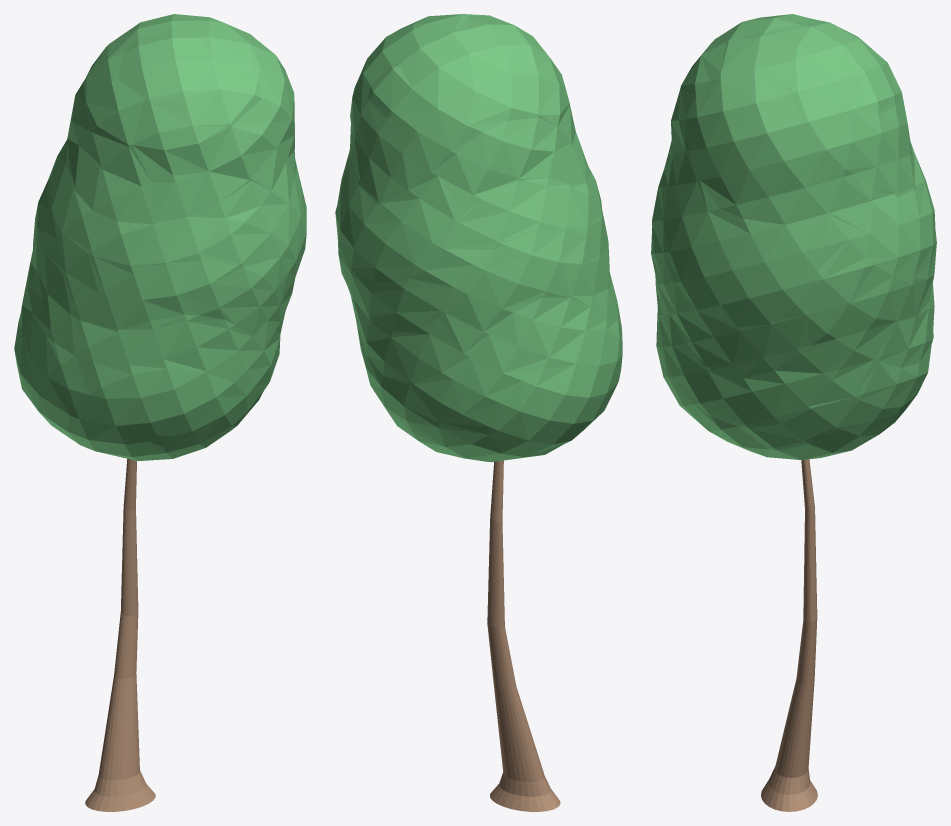
File: Cartoon_Trees_Pack_Tree_9.glb
3 renders of one model, left to right at view 1: azimuth 30°, elevation 25°; view 2: azimuth 150°, elevation 25°; view 3: azimuth 270°, elevation 25°, orthographic. The views are drawn at different scales.
Visible parts, largest first — view 1: Canopy, Trunk; view 2: Canopy, Trunk; view 3: Canopy, Trunk.
Boxes of the visible parts, x1=… form: Canopy: x1=14, y1=14, x2=306, y2=460; Trunk: x1=85, y1=459, x2=155, y2=811; Canopy: x1=335, y1=14, x2=622, y2=462; Trunk: x1=487, y1=460, x2=560, y2=811; Canopy: x1=651, y1=14, x2=936, y2=459; Trunk: x1=761, y1=459, x2=817, y2=811.
Size of the model in its own units: 358 by 1023 by 331.
